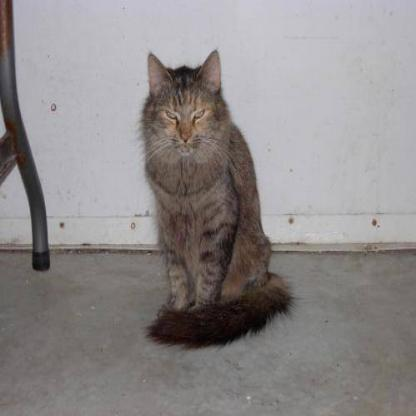cat: (128, 38, 328, 341)
